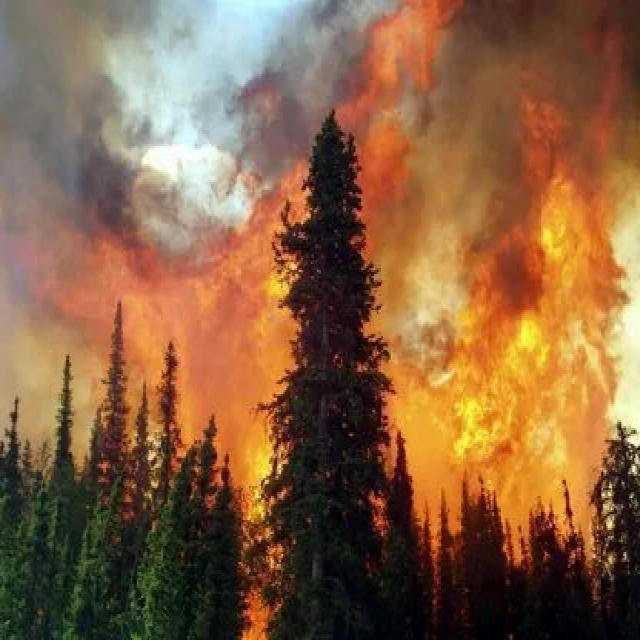Fire: (358, 1, 634, 545), (140, 125, 371, 630)
